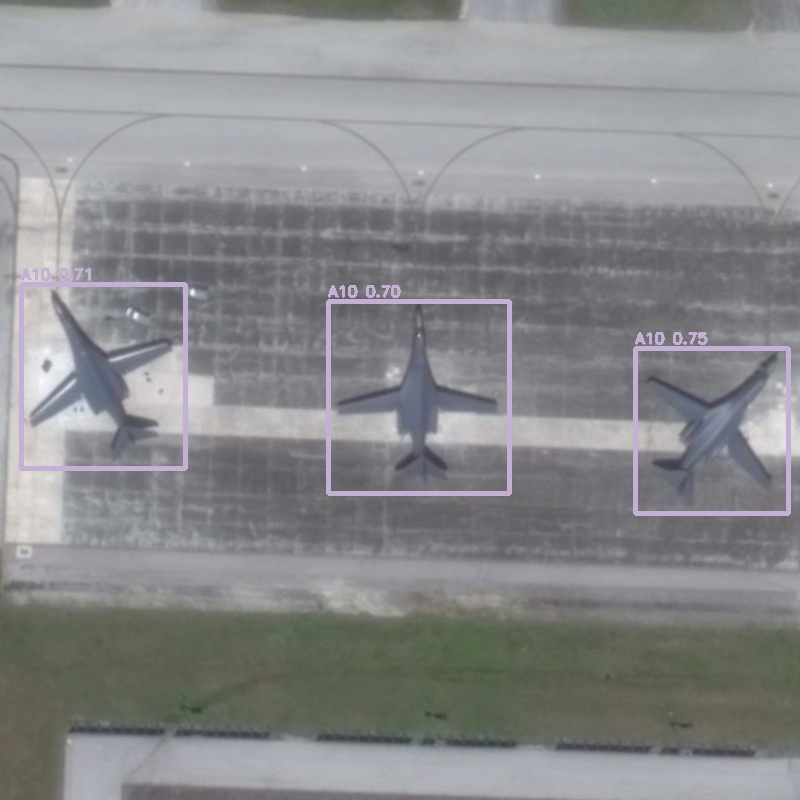A10: (328, 301, 509, 493), (21, 284, 185, 468), (635, 348, 788, 513)
